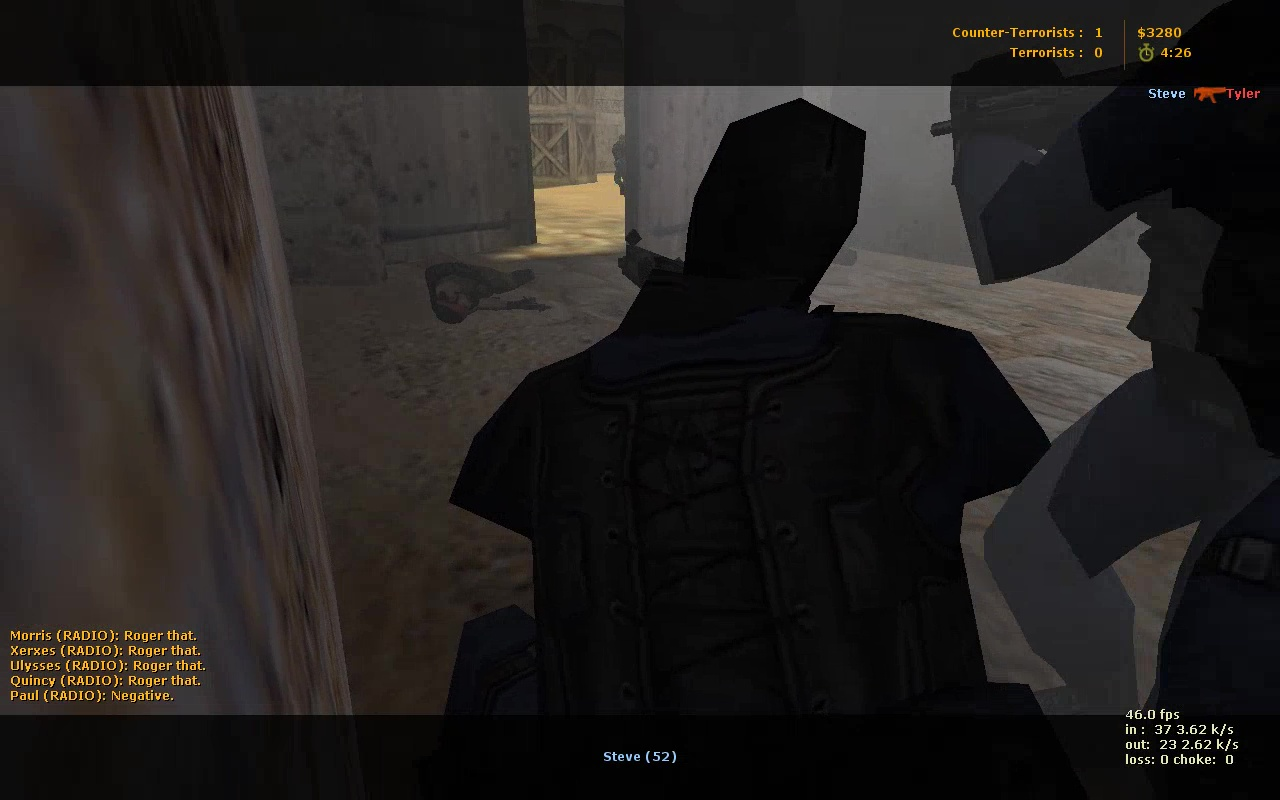dead: (422, 257, 546, 322)
